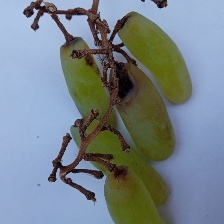grapes: (50, 45, 218, 187)
